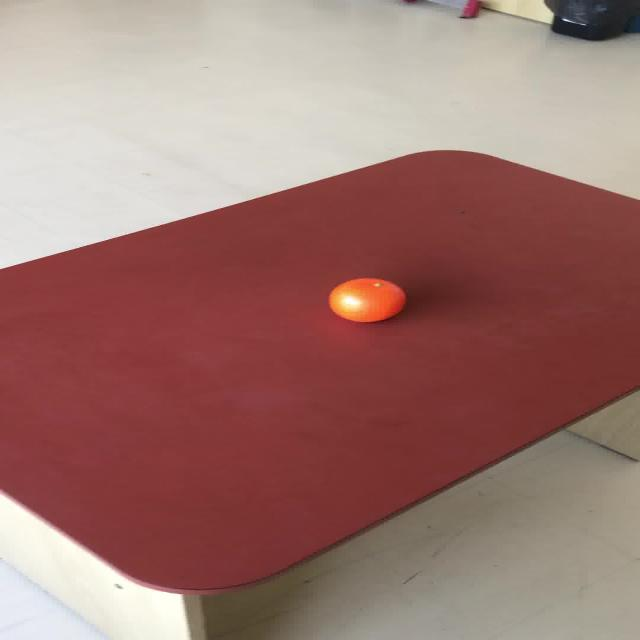orange: (326, 277, 406, 322)
